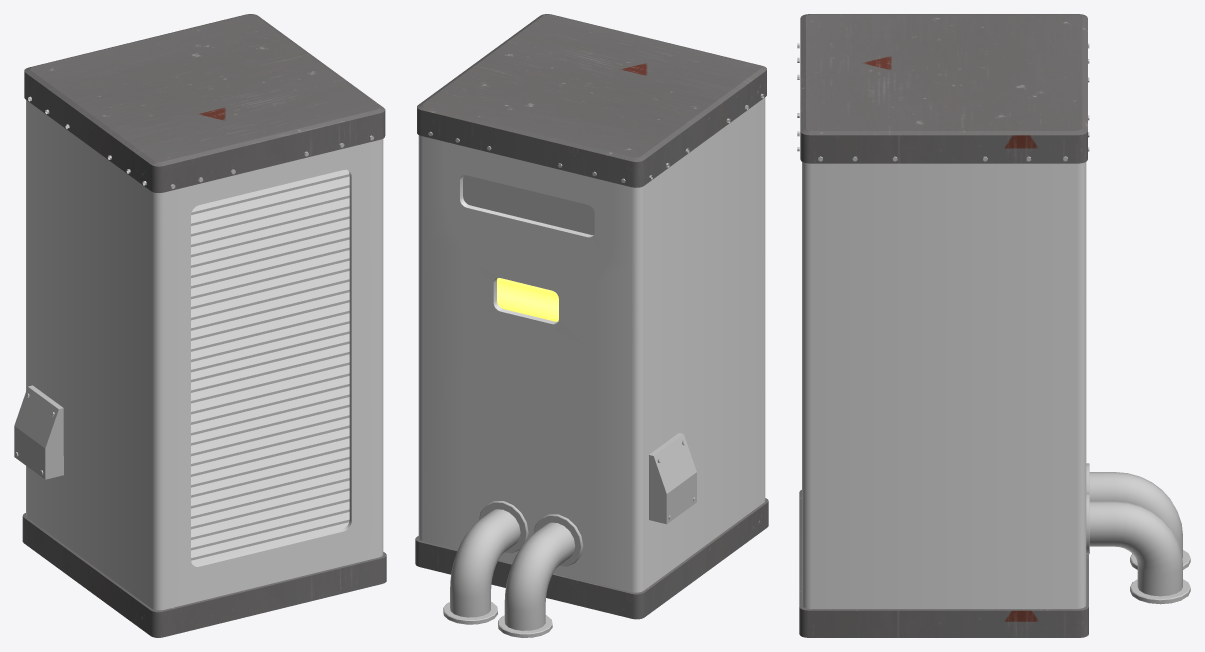
The model's file is KB3D_CBP_ACunit_L.fbx.
The picture shows the model from 3 angles, left to right: view 1: azimuth 30°, elevation 25°; view 2: azimuth 150°, elevation 25°; view 3: azimuth 270°, elevation 25°; orthographic projection. The views are drawn at different scales.
Parts seen in each view (by area): view 1: KB3D_CBP_ACunit_L_Main; view 2: KB3D_CBP_ACunit_L_Main; view 3: KB3D_CBP_ACunit_L_Main.
Part boxes in pixels (box(x1,y1,x2,y2)): KB3D_CBP_ACunit_L_Main: box(14, 14, 386, 637); KB3D_CBP_ACunit_L_Main: box(415, 14, 768, 637); KB3D_CBP_ACunit_L_Main: box(797, 14, 1190, 637).
Size of the model in its own units: 70.51 by 127 by 89.05.
